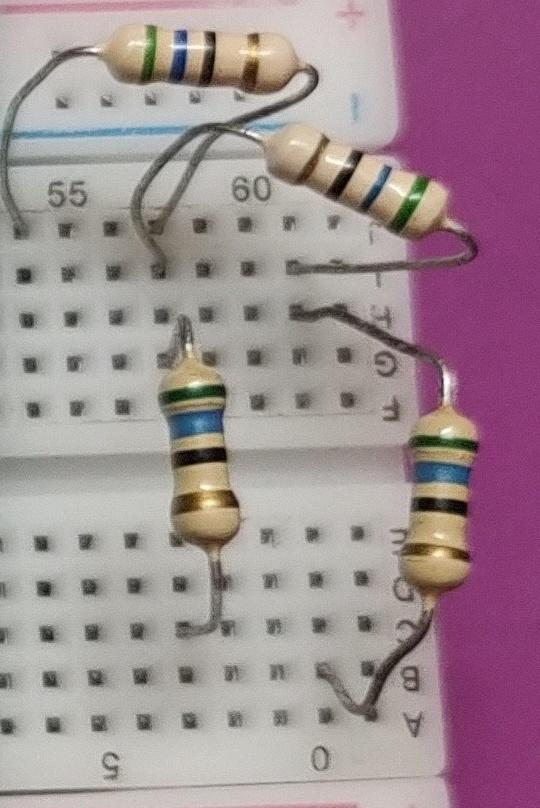resistor: (155, 334, 286, 582), (249, 120, 479, 253), (389, 384, 491, 610), (97, 19, 313, 113)
